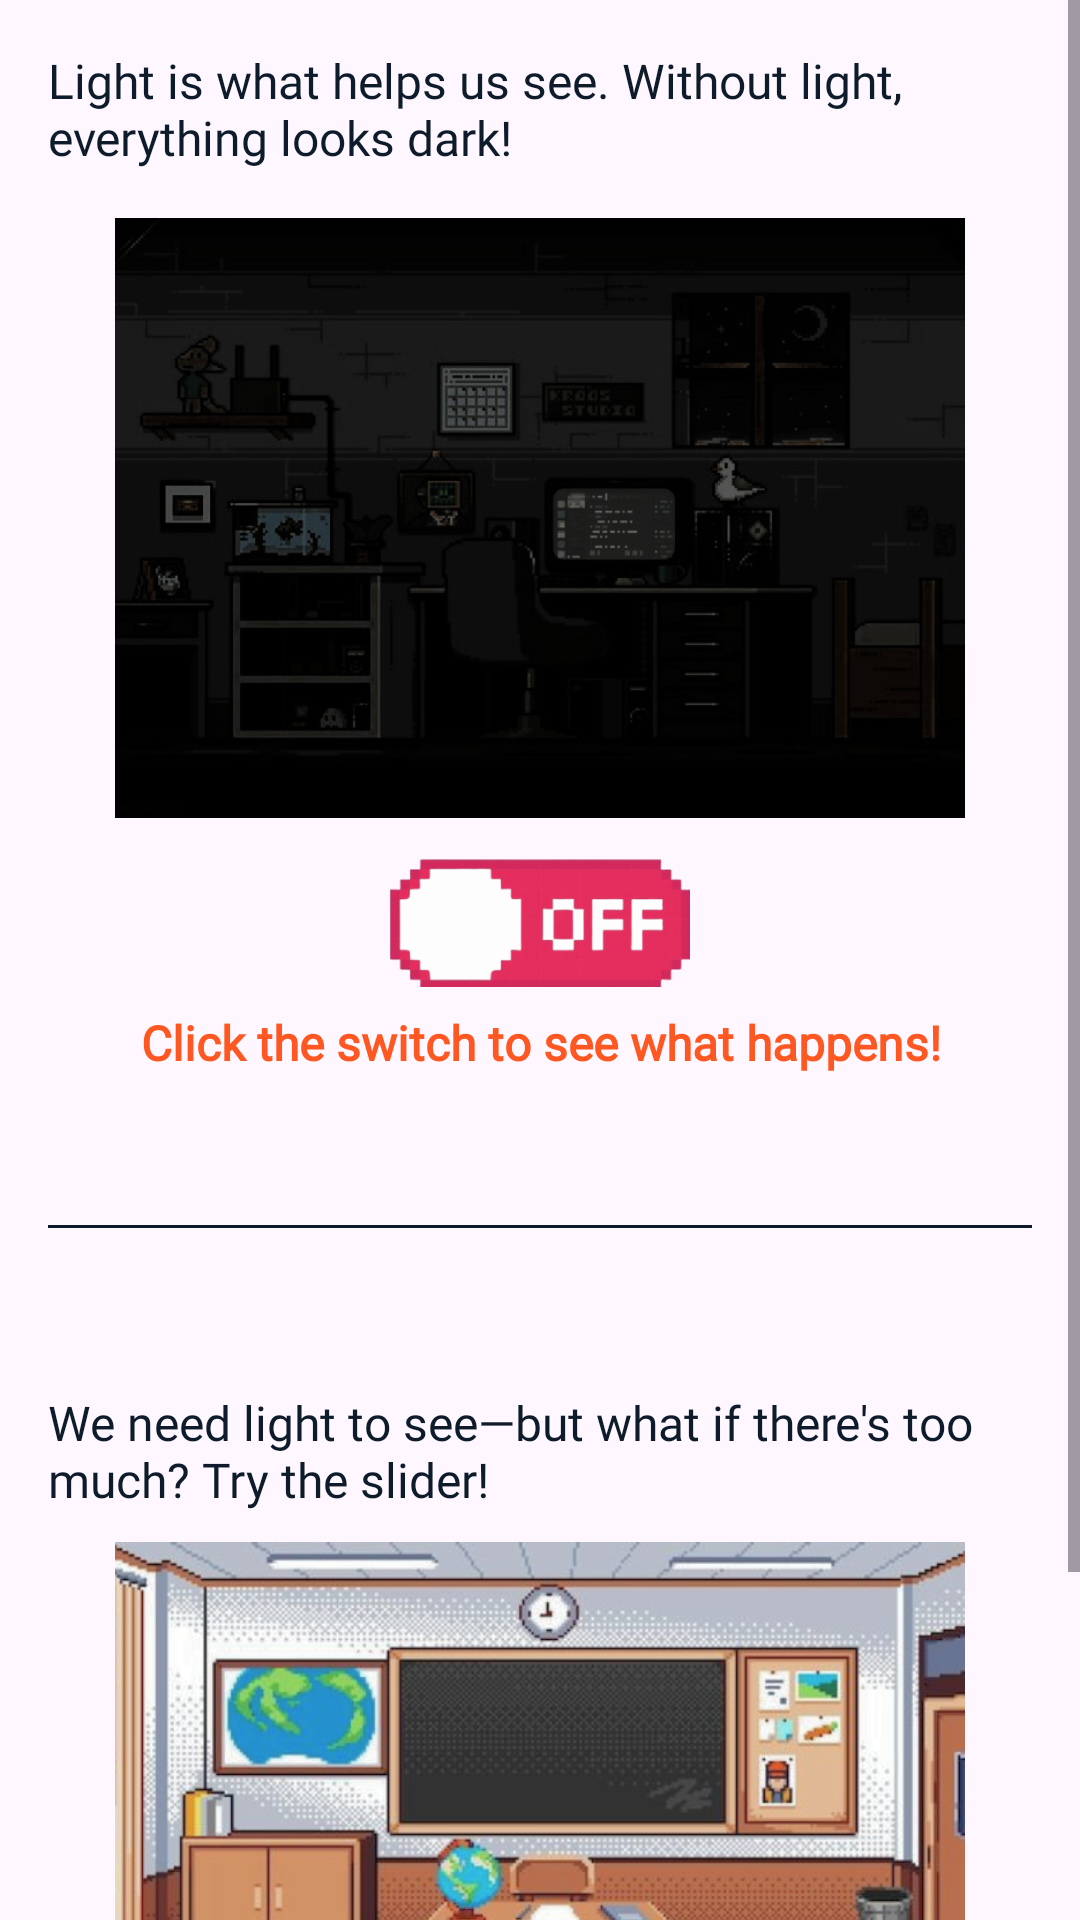

Named icons in this screenshot (1080px x 1920px) and their bounding boxes, (x1, y1, x2, y2):
Light Switch: (390, 859, 690, 987)
